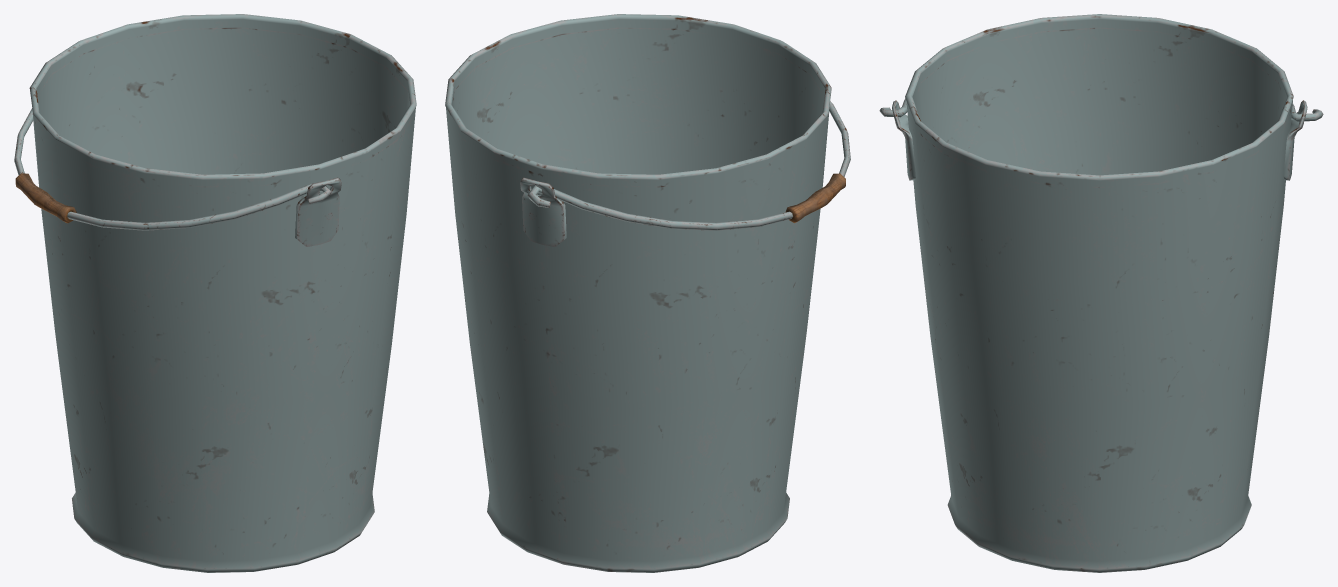
The model's file is galvanised_steel_bucket.glb.
3 renders of one model, left to right at view 1: azimuth 30°, elevation 25°; view 2: azimuth 150°, elevation 25°; view 3: azimuth 270°, elevation 25°, orthographic.
Parts seen in each view (by area): view 1: bucket; view 2: bucket; view 3: bucket.
Boxes of the visible parts, <box> form: bucket: <box>14,14,416,572</box>; bucket: <box>445,14,850,572</box>; bucket: <box>879,14,1323,572</box>.
Bounding box in the file's own units: 0.5708 × 0.6383 × 0.6158.
1 material, 1 textured.
